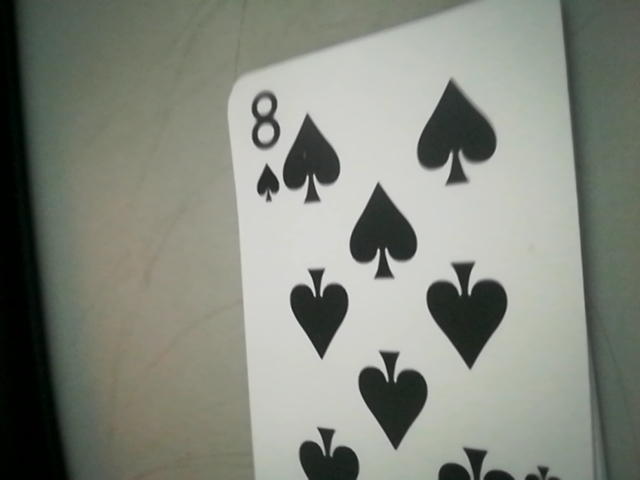ht 8: (241, 81, 297, 212)
